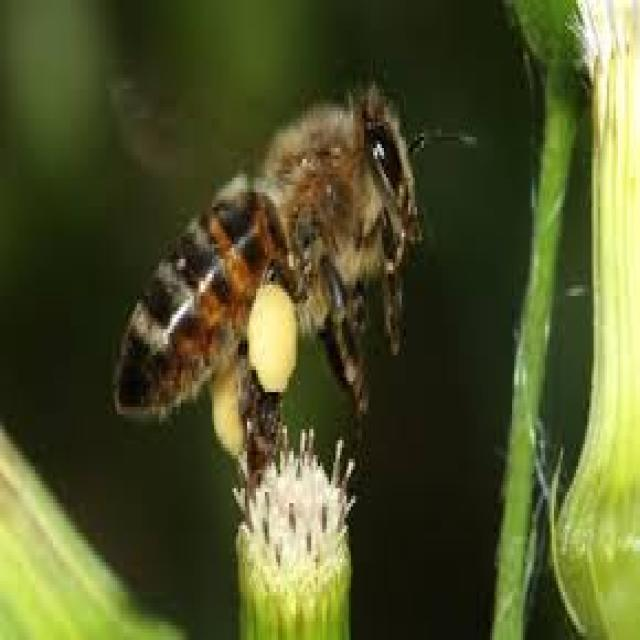Bees: (113, 83, 476, 458)
